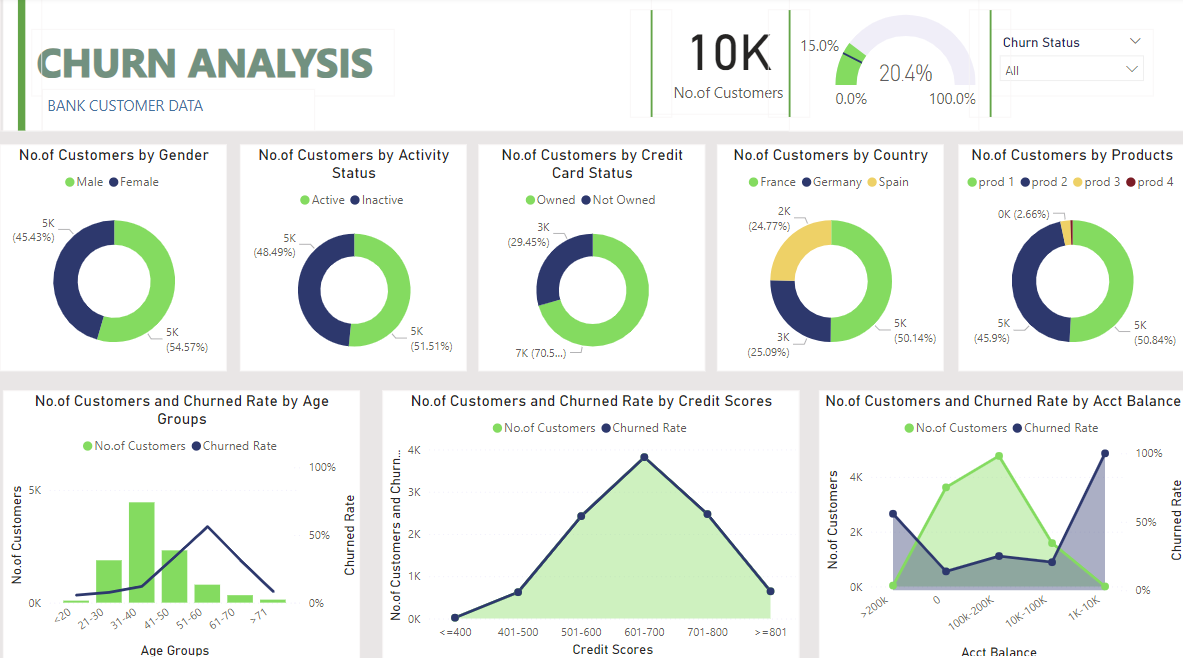

The page's visual inventory and layout, read from the dashboard file:
{"tool":"powerbi","page":{"name":"Page 1","canvas":[1280,720],"ordinal":0},"visuals":[{"type":"shape","box":[3.2,0,1276,145.7],"z":0},{"type":"card","fields":{"Values":["customer data.Customers"]},"box":[702.7,0,165.2,127.9],"z":1000},{"type":"donutChart","fields":{"Category":["customer data.Gender"],"Y":["customer data.Customers"]},"box":[0,160.3,244.5,244.5],"z":2000},{"type":"donutChart","fields":{"Category":["customer data.Activity Status","customer data.Gender"],"Y":["customer data.Customers"]},"box":[259.1,160.3,244.5,244.5],"z":3000},{"type":"donutChart","fields":{"Category":["customer data.Credit Card Status","customer data.Gender"],"Y":["customer data.Customers"]},"box":[516.5,160.3,244.5,244.5],"z":4000},{"type":"donutChart","fields":{"Category":["customer data.Country","customer data.Gender"],"Y":["customer data.Customers"]},"box":[774,160.3,244.5,244.5],"z":5000},{"type":"donutChart","fields":{"Category":["customer data.Products"],"Y":["customer data.Customers"]},"box":[1034.7,160.3,244.5,244.5],"z":6000},{"type":"lineClusteredColumnComboChart","fields":{"Category":["Age Groups.Age Groups"],"Y":["customer data.Customers"],"Y2":["customer data.Churned Rate"]},"box":[3.2,425.9,385,292],"z":7000},{"type":"stackedAreaChart","fields":{"Category":["Credit Score Groups.Credit Scores"],"Y":["customer data.No.of Customers","customer data.Churned Rate"]},"box":[412.9,425.9,450.1,291.5],"z":8000},{"type":"areaChart","fields":{"Category":["Acc Balance Groups.Acct Balance"],"Y":["customer data.No.of Customers"],"Y2":["customer data.Churned Rate"]},"box":[884.1,425.9,396.7,294.7],"z":9000},{"type":"slicer","fields":{"Values":["customer data.Churn Status"]},"box":[1068.7,35.6,176.5,72.9],"z":10000},{"type":"gauge","fields":{"Y":["customer data.Churned Rate"],"MinValue":["Min(customer data.Min Churn Rate)"],"MaxValue":["Max(customer data.Max Churn Rate)"],"TargetValue":["Max(customer data.Target Churn Rate)"]},"box":[851.7,0,205.6,145.7],"z":11000},{"type":"textbox","box":[34,35.6,391.9,72.9],"z":11001},{"type":"textbox","box":[45.3,100.4,294.7,45.3],"z":11002},{"type":"shape","box":[829,14.6,45.3,116.6],"z":11003},{"type":"shape","box":[1046,14.6,45.3,116.6],"z":11004},{"type":"shape","box":[680.1,14.6,45.3,116.6],"z":11005},{"type":"shape","box":[0,0,45.3,145.7],"z":11006}]}

Visuals, with their boxes in screenshot pixels (x1, y1, x2, y2), scaled from the page's 1280x720 canvas onto the 1183x658 screenshot:
shape: locate(3, 0, 1182, 133)
card - customer data.Customers: locate(649, 0, 802, 117)
donutChart - customer data.Gender x customer data.Customers: locate(0, 146, 226, 370)
donutChart - customer data.Activity Status x customer data.Gender: locate(239, 146, 465, 370)
donutChart - customer data.Credit Card Status x customer data.Gender: locate(477, 146, 703, 370)
donutChart - customer data.Country x customer data.Gender: locate(715, 146, 941, 370)
donutChart - customer data.Products x customer data.Customers: locate(956, 146, 1182, 370)
lineClusteredColumnComboChart - Age Groups.Age Groups x customer data.Customers: locate(3, 389, 359, 656)
stackedAreaChart - Credit Score Groups.Credit Scores x customer data.No.of Customers: locate(382, 389, 798, 656)
areaChart - Acc Balance Groups.Acct Balance x customer data.No.of Customers: locate(817, 389, 1182, 657)
slicer - customer data.Churn Status: locate(988, 33, 1151, 99)
gauge - customer data.Churned Rate x Min(customer data.Min Churn Rate): locate(787, 0, 977, 133)
textbox: locate(31, 33, 394, 99)
textbox: locate(42, 92, 314, 133)
shape: locate(766, 13, 808, 120)
shape: locate(967, 13, 1009, 120)
shape: locate(629, 13, 670, 120)
shape: locate(0, 0, 42, 133)
